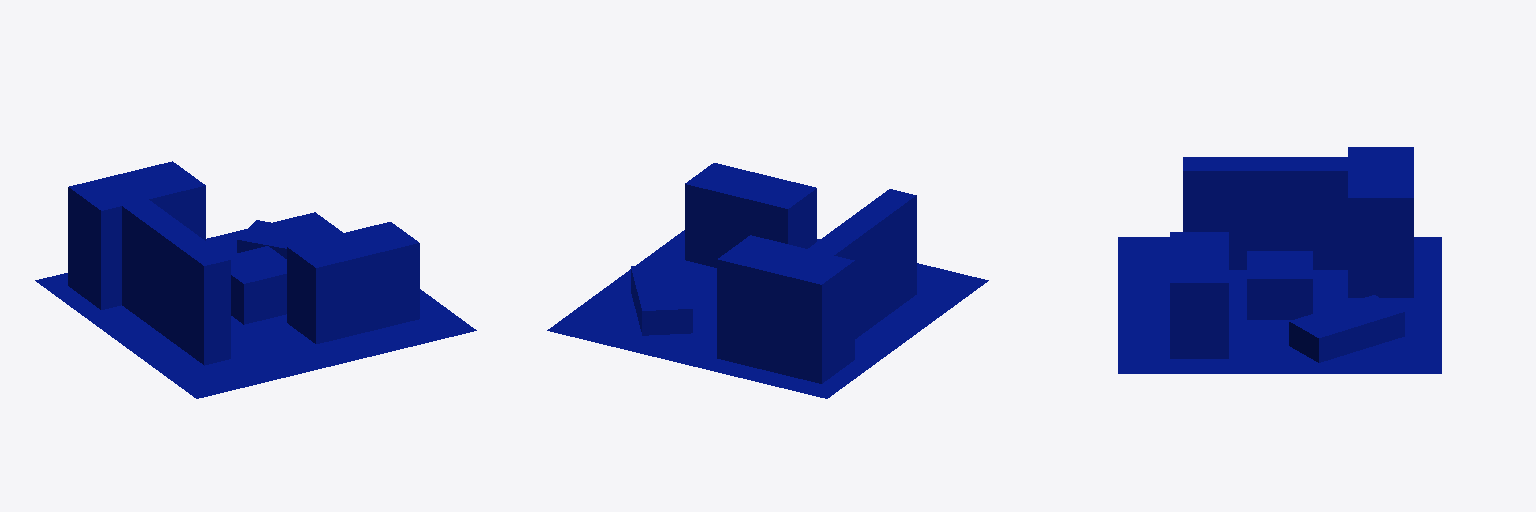
The model's file is testworld.obj.
3 renders of one model, left to right at view 1: azimuth 30°, elevation 25°; view 2: azimuth 150°, elevation 25°; view 3: azimuth 270°, elevation 25°, orthographic.
Parts seen in each view (by area): view 1: Plane; view 2: Plane; view 3: Plane.
Boxes of the visible parts, <box> form: Plane: <box>35,161,476,398</box>; Plane: <box>547,163,988,398</box>; Plane: <box>1118,147,1441,373</box>.
Bounding box in the file's own units: 6.75 × 2.28 × 6.75.